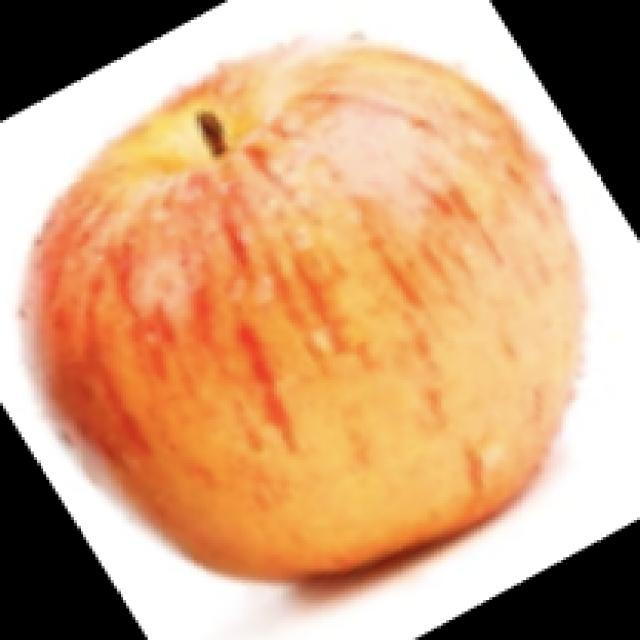Fresh Apple: (39, 47, 568, 575)
